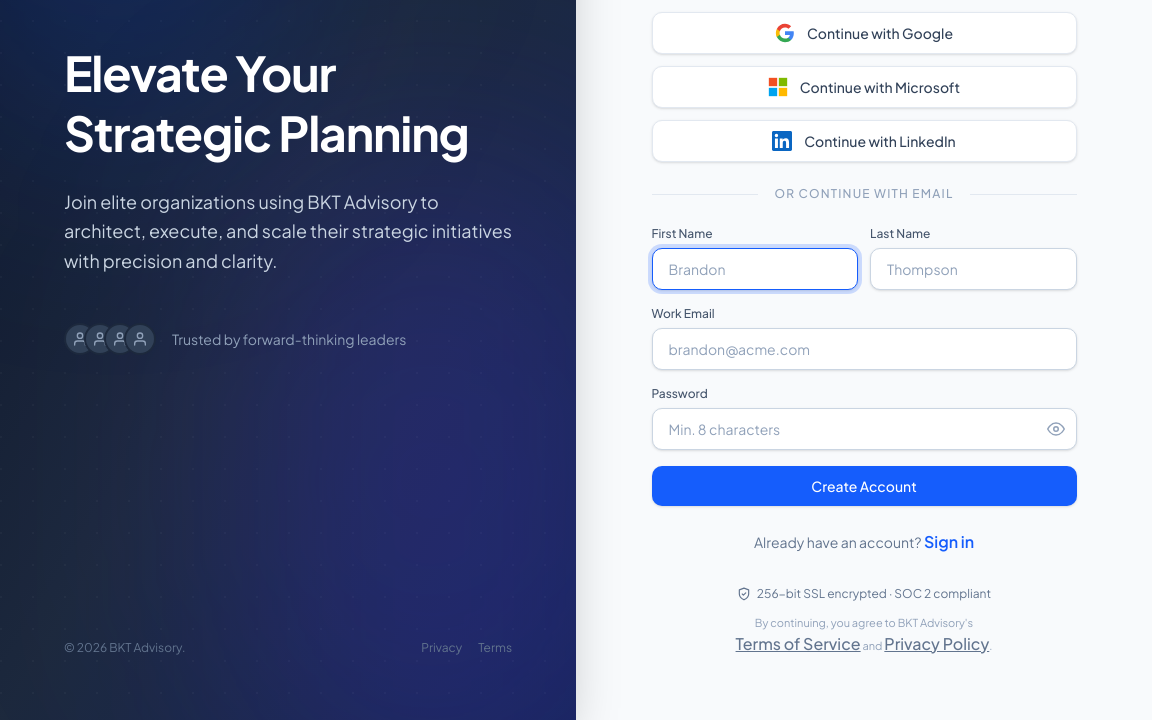
Scenario: account security › sends a reset email from the sign-in screen and shows a check-email notice
(page scrolled)
Click the button "Sign in" at (949,542), box [924,530,974,554]
(page scrolled)
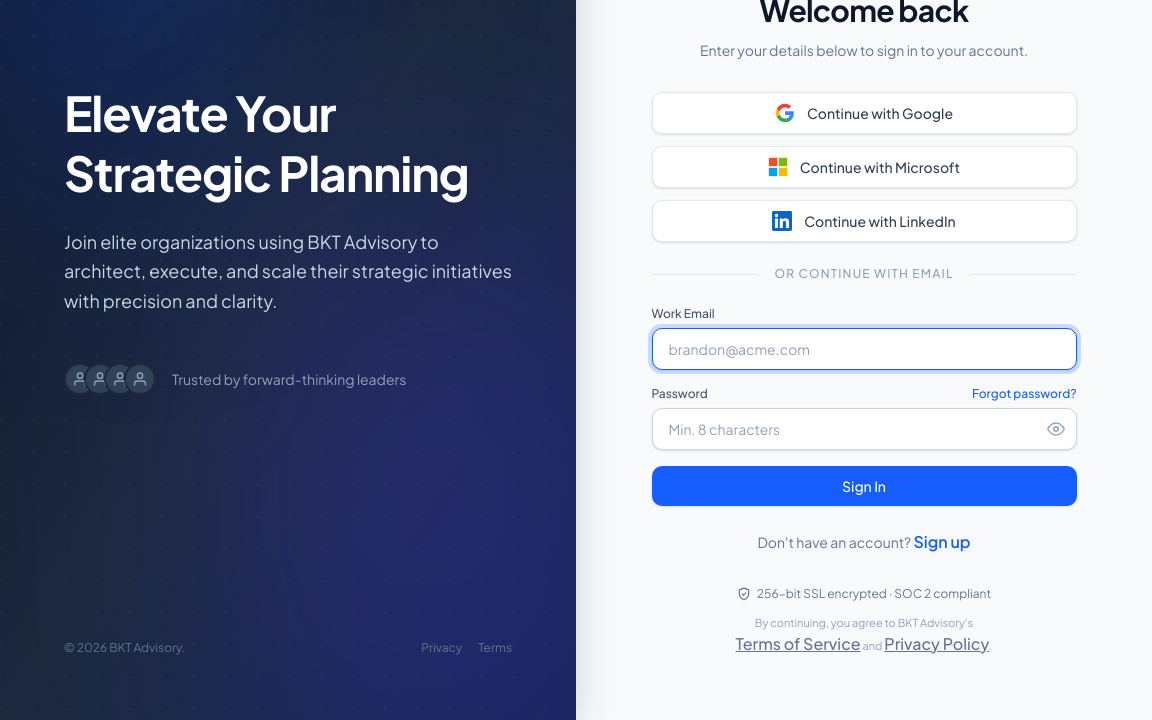
Type "casey@example.com" into the field with placeholder "brandon@acme.com" at (864,349), box [652,328,1076,370]
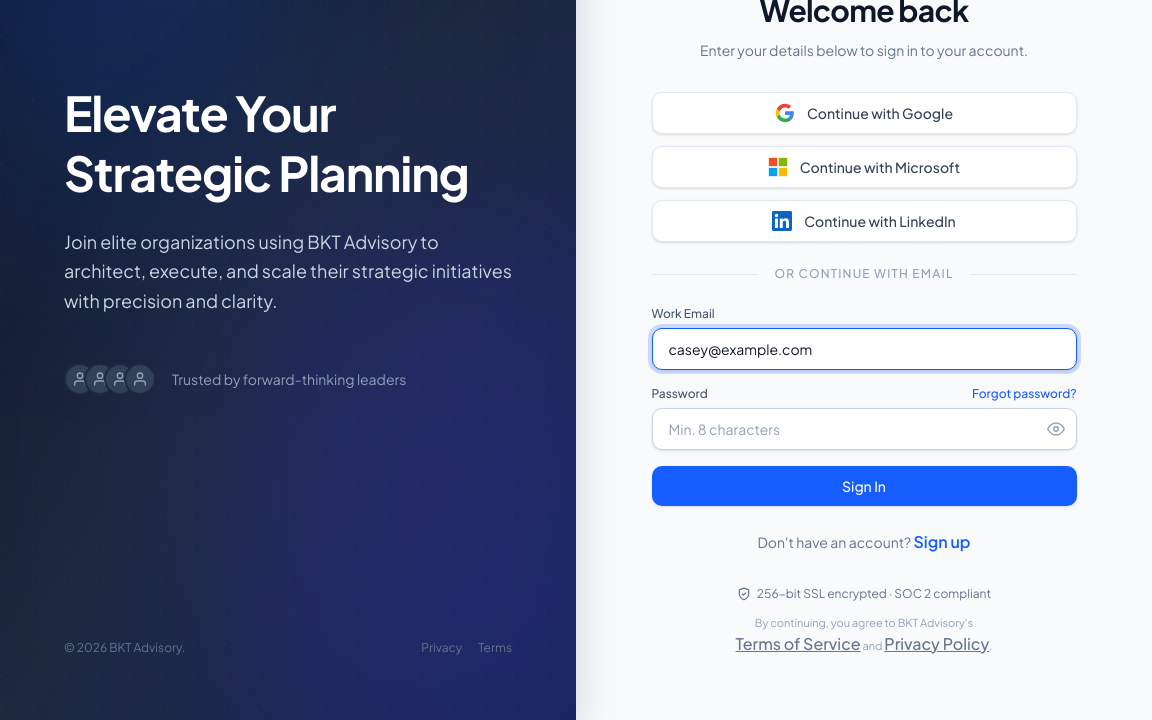
Click the button "Forgot password?" at (1024,394), box [972,386,1076,402]
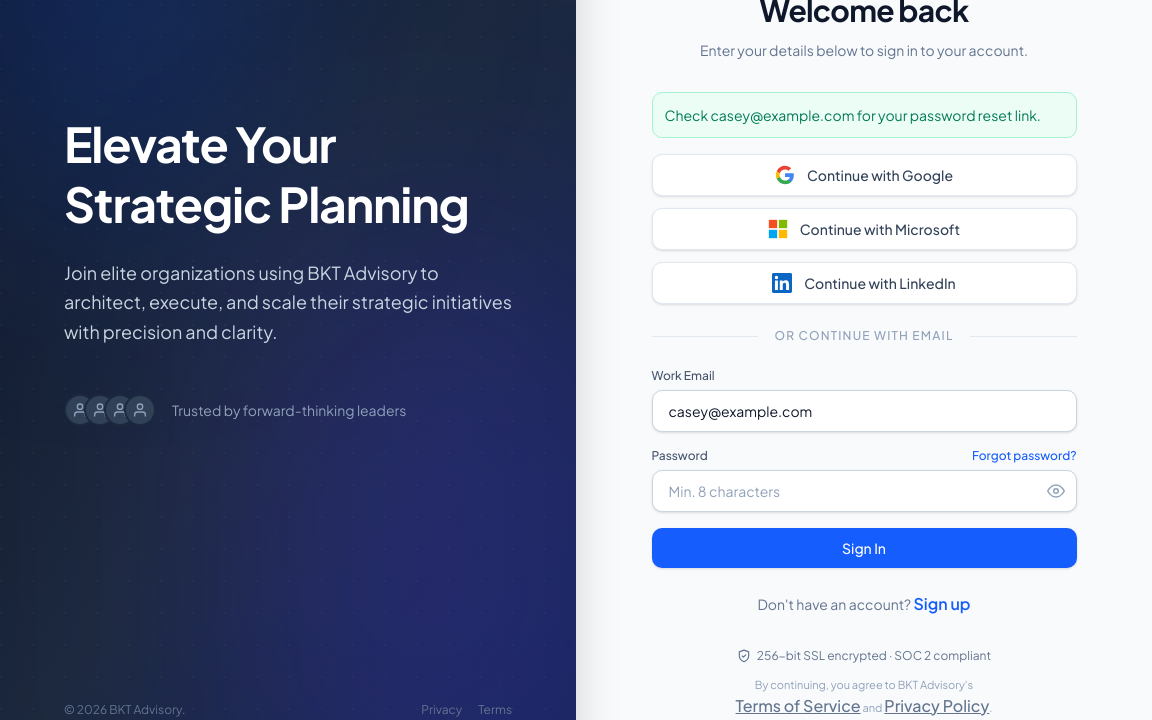
Expected: the text "Check casey@example.com for your password reset link." is shown, [652,92,1076,138]
